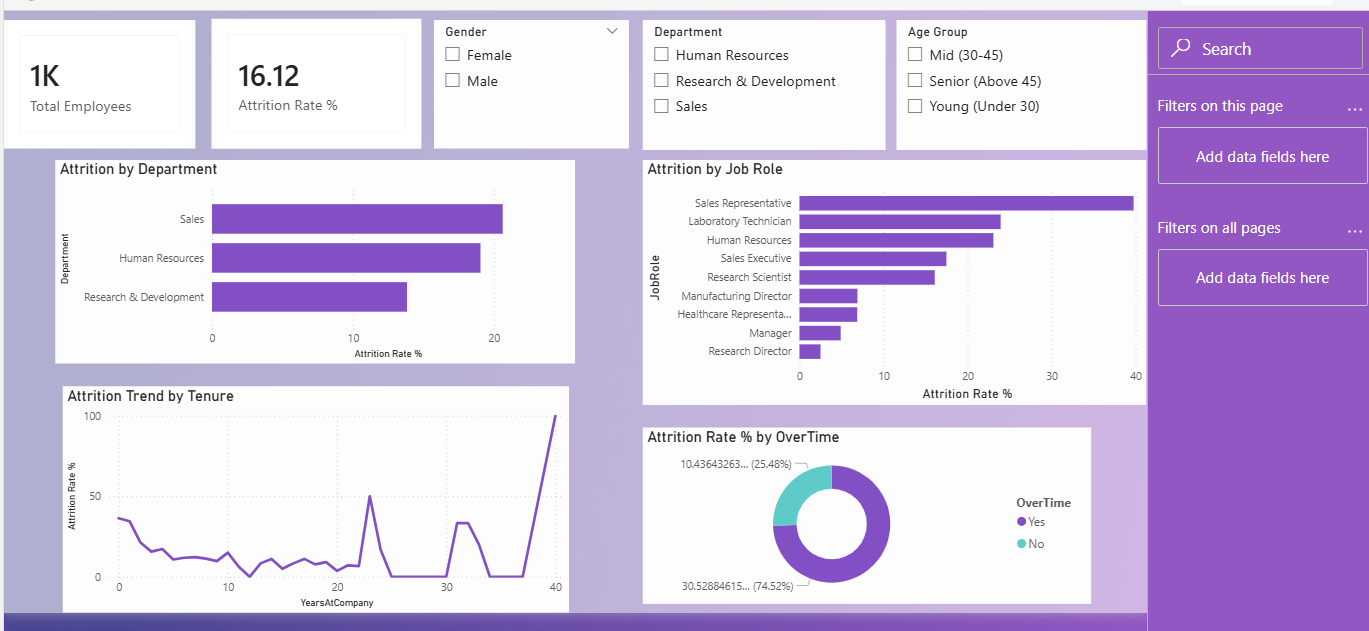

The dashboard page shown, as its layout file describes it:
{"tool":"powerbi","page":{"name":"Page 1","canvas":[1280,720],"ordinal":0},"visuals":[{"type":"cardVisual","fields":{"Data":["hr_cleaned.Total Employees"]},"box":[0,56,214.3,144.2],"z":0},{"type":"cardVisual","fields":{"Data":["hr_cleaned.Attrition Rate %"]},"box":[232.5,54.6,235.3,145.6],"z":1000},{"type":"clusteredBarChart","title":"Attrition by Department","fields":{"Category":["hr_cleaned.Department"],"Y":["hr_cleaned.Attrition Rate %"]},"box":[57.4,212.9,582.6,228.3],"z":2000},{"type":"clusteredBarChart","title":"Attrition by Job Role","fields":{"Category":["hr_cleaned.JobRole"],"Y":["hr_cleaned.Attrition Rate %"]},"box":[715.6,212.9,564.4,274.5],"z":3000},{"type":"donutChart","fields":{"Y":["hr_cleaned.Attrition Rate %"],"Category":["hr_cleaned.OverTime"]},"box":[715.6,512.6,502.8,197.5],"z":4000},{"type":"lineChart","title":"Attrition Trend by Tenure","fields":{"Category":["hr_cleaned.YearsAtCompany"],"Y":["hr_cleaned.Attrition Rate %"]},"box":[65.8,466.3,567.2,253.5],"z":5000},{"type":"slicer","fields":{"Values":["hr_cleaned.Gender"]},"box":[481.8,56,218.5,144.2],"z":6000},{"type":"slicer","fields":{"Values":["hr_cleaned.Department"]},"box":[715.6,56,271.7,145.6],"z":7000},{"type":"slicer","fields":{"Values":["hr_cleaned.Age Group"]},"box":[999.9,56,280.1,145.6],"z":8000}]}

Visuals, with their boxes in screenshot pixels (x1, y1, x2, y2):
cardVisual - hr_cleaned.Total Employees: 0 15 188 144
cardVisual - hr_cleaned.Attrition Rate %: 205 13 416 144
"Attrition by Department" clusteredBarChart: 48 155 570 360
"Attrition by Job Role" clusteredBarChart: 638 155 1143 401
donutChart - hr_cleaned.Attrition Rate % x hr_cleaned.OverTime: 638 424 1088 601
"Attrition Trend by Tenure" lineChart: 55 382 564 609
slicer - hr_cleaned.Gender: 428 15 624 144
slicer - hr_cleaned.Department: 638 15 881 145
slicer - hr_cleaned.Age Group: 892 15 1143 145
